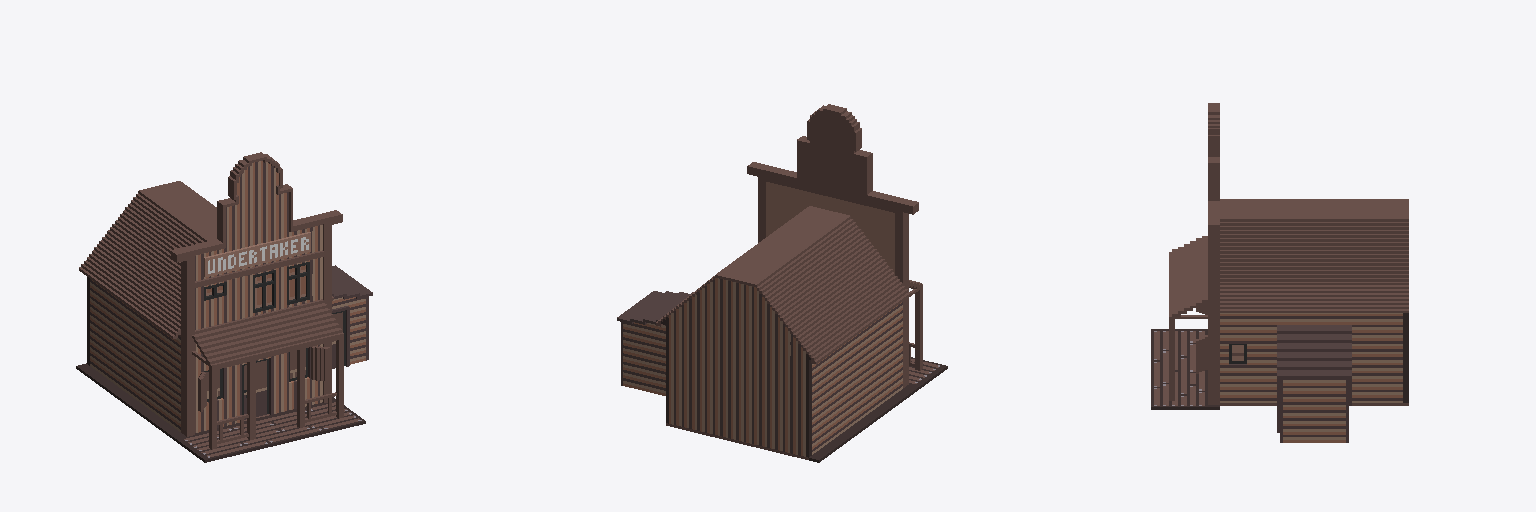
3 renders of one model, left to right at view 1: azimuth 30°, elevation 25°; view 2: azimuth 150°, elevation 25°; view 3: azimuth 270°, elevation 25°, orthographic.
Parts seen in each view (by area): view 1: default; view 2: default; view 3: default.
Part boxes in pixels (x1,y1,x2,y2): default: (76, 152, 372, 462); default: (617, 104, 947, 462); default: (1151, 103, 1408, 442).
Size of the model in its own units: 89 by 97 by 86.
1 materials, 1 textured.